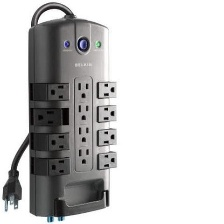three_eye_plug: (24, 10, 119, 221)
